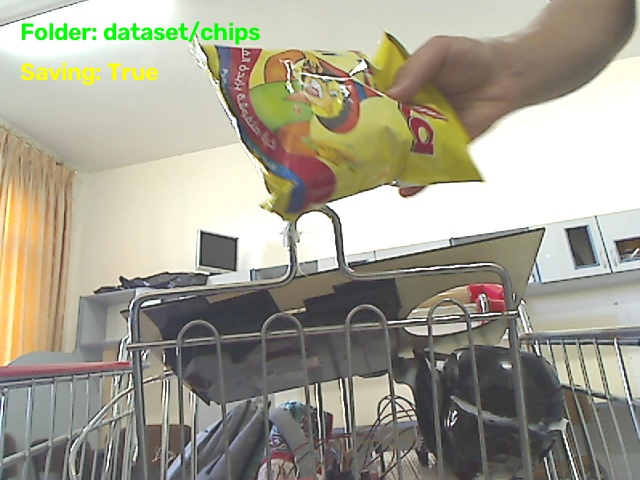chips: (191, 34, 481, 220)
